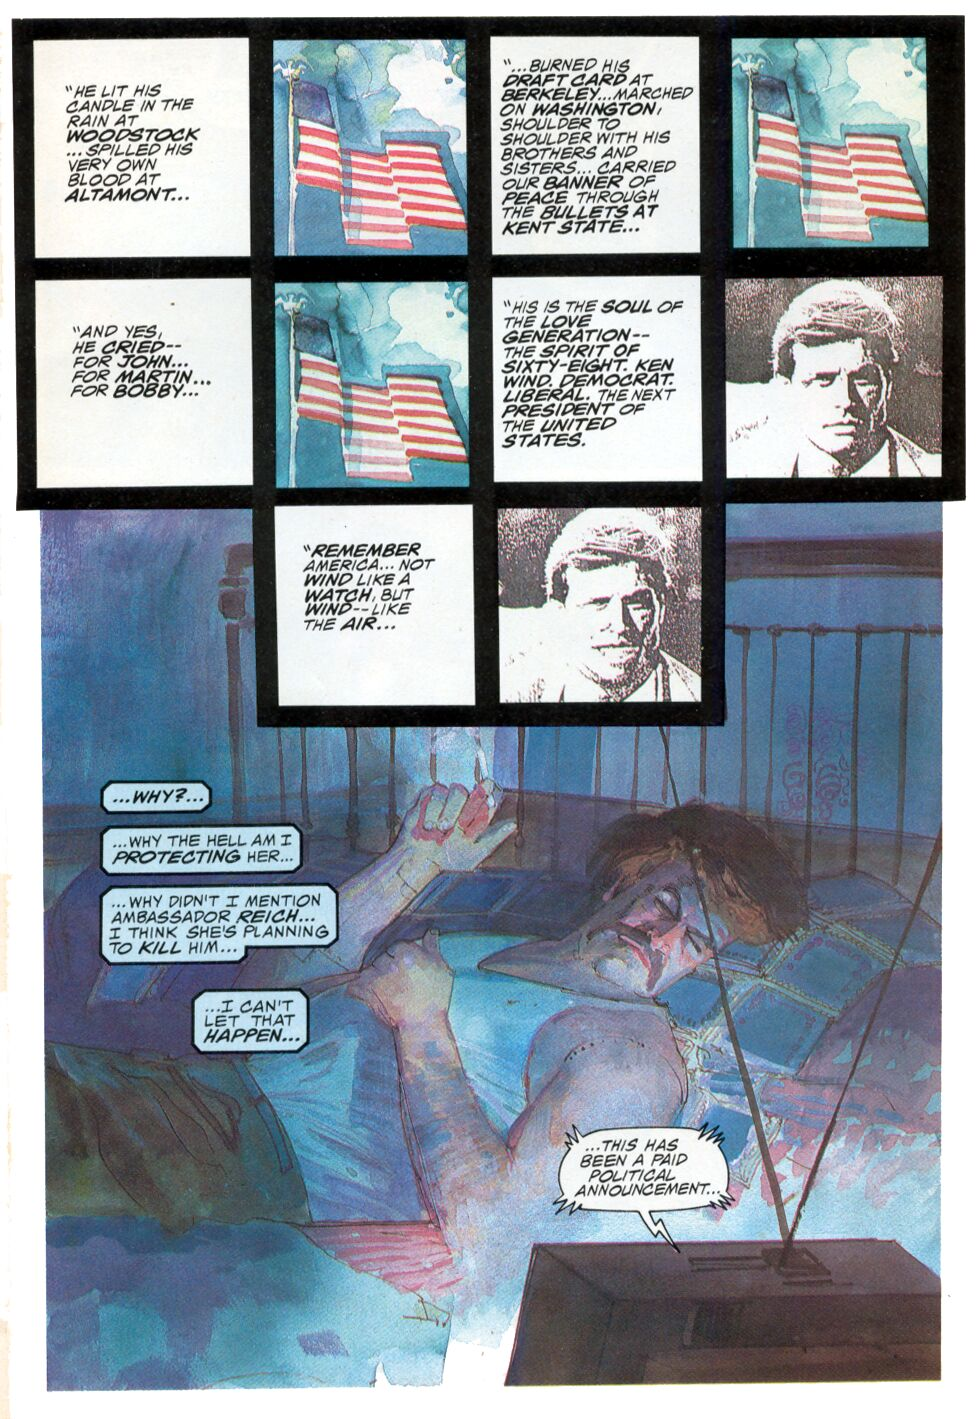Baloon: (490, 32, 705, 263), (31, 41, 253, 259), (29, 280, 259, 490), (274, 500, 481, 711), (492, 278, 705, 480), (557, 1122, 742, 1230), (101, 882, 340, 963), (101, 824, 305, 872), (194, 991, 305, 1050), (105, 779, 209, 809)
Vignetta: (40, 504, 946, 1378), (718, 278, 948, 480), (727, 28, 931, 252), (272, 41, 468, 259), (277, 280, 477, 490)
